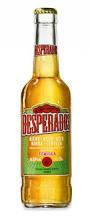Glass bottle: (12, 5, 86, 210)
